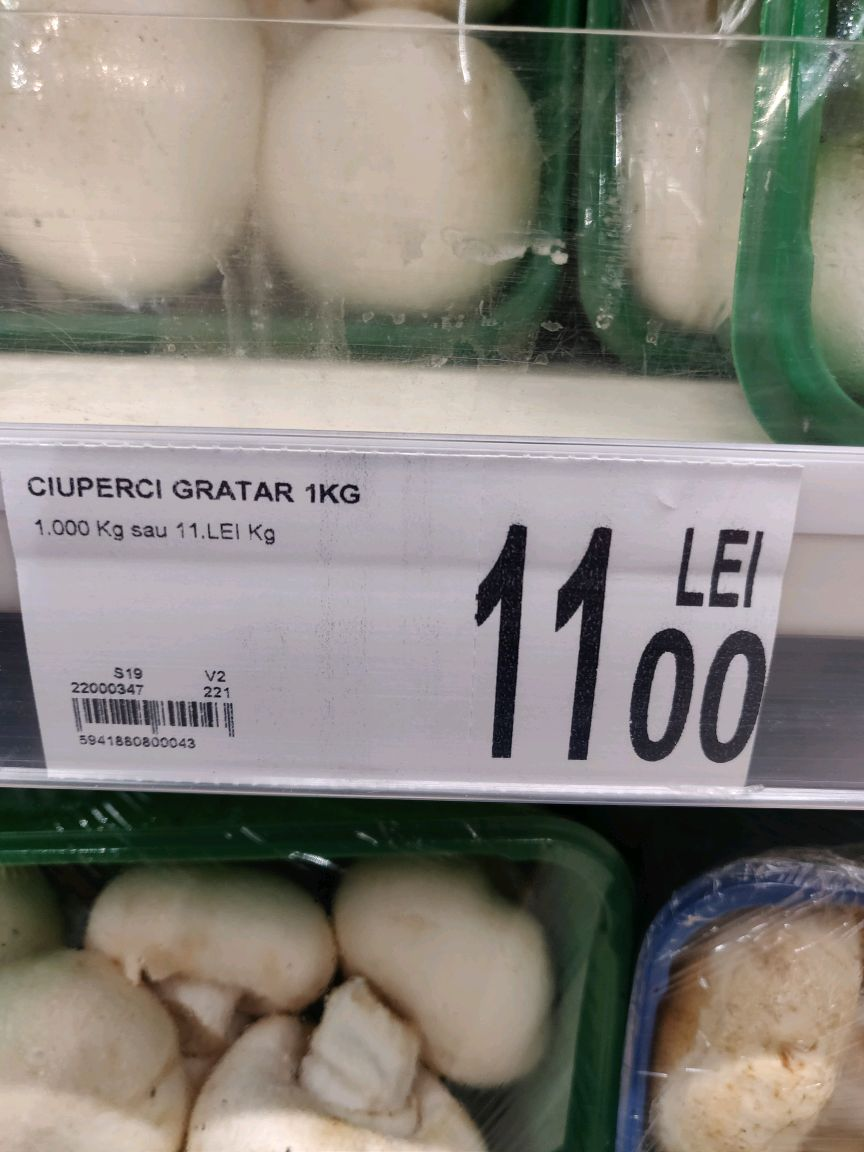price_bani: (617, 621, 775, 783)
price_lei: (455, 517, 622, 770)
price_tag: (1, 410, 811, 814)
product_id: (72, 731, 204, 758)
product_name: (13, 470, 379, 510)
